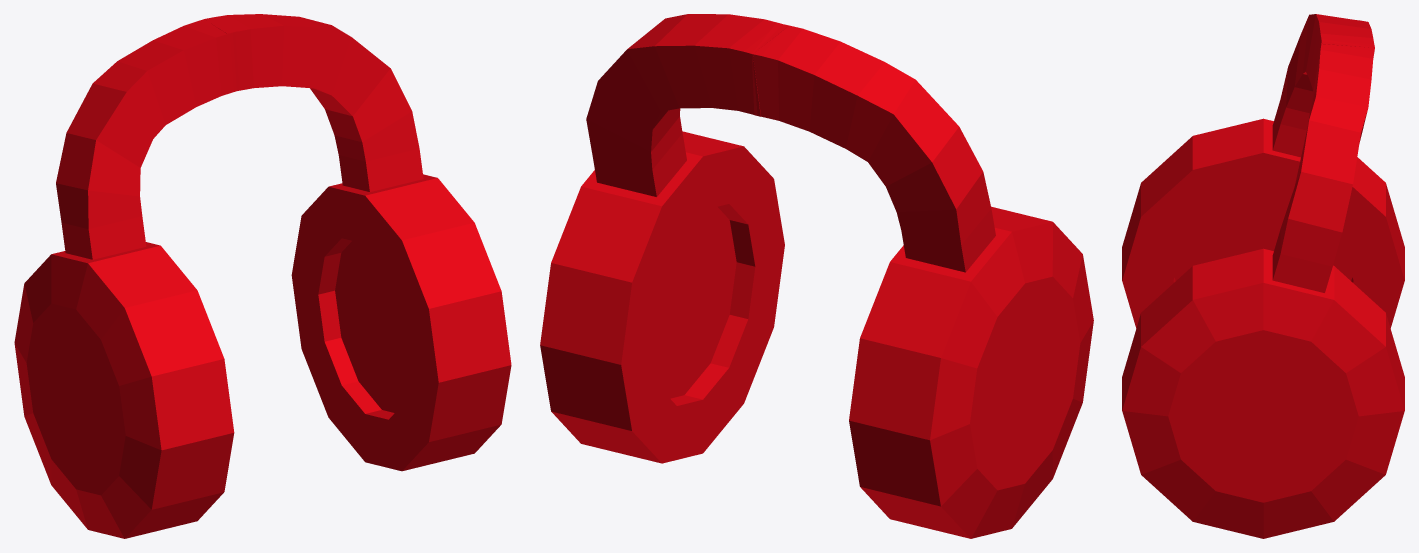
File: Auriculares.glb
3 views of the same model, side by side, from view 1: azimuth 30°, elevation 25°; view 2: azimuth 150°, elevation 25°; view 3: azimuth 270°, elevation 25° (orthographic). The views are drawn at different scales.
Parts seen in each view (by area): view 1: Cylinder; view 2: Cylinder; view 3: Cylinder.
Boxes of the visible parts, bbox=[...] form: Cylinder: bbox=[14, 14, 511, 538]; Cylinder: bbox=[540, 14, 1093, 538]; Cylinder: bbox=[1122, 14, 1404, 538].
Bounding box in the file's own units: 2.93 × 3.24 × 2.
